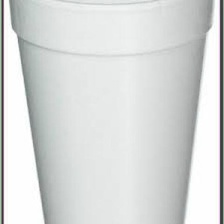paper_cup: (3, 0, 217, 224)
